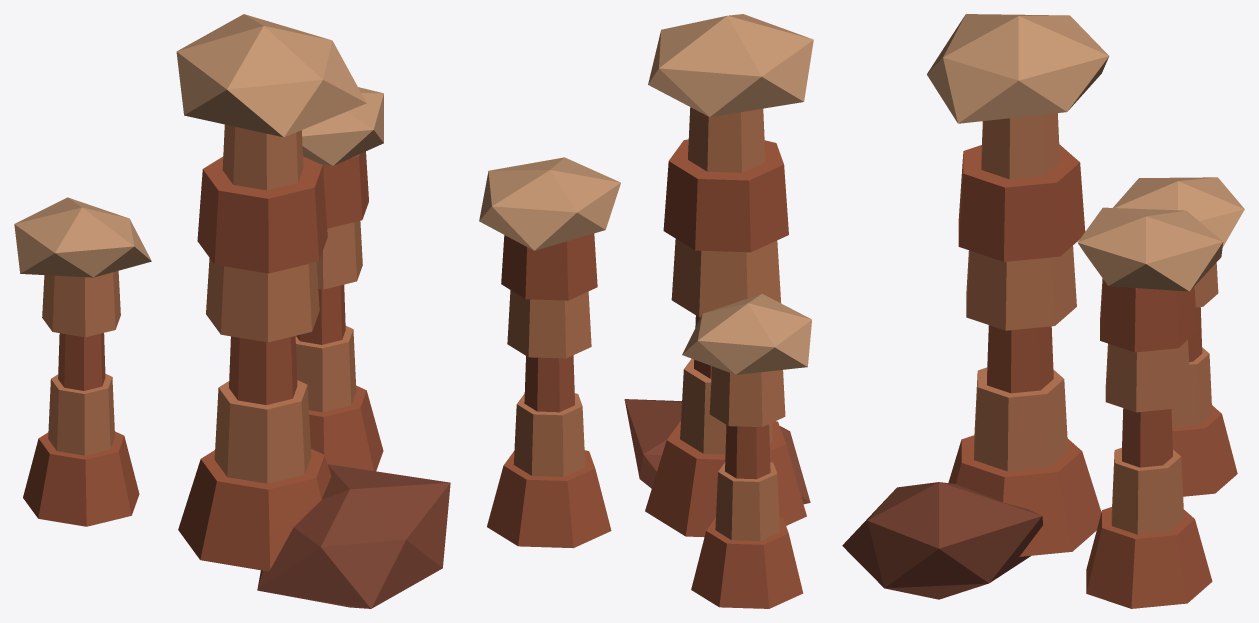
Rendered from hoodoos.glb.
3 views of the same model, side by side, from view 1: azimuth 30°, elevation 25°; view 2: azimuth 150°, elevation 25°; view 3: azimuth 270°, elevation 25° (orthographic). The views are drawn at different scales.
Visible parts, largest first — view 1: hoodoos; view 2: hoodoos; view 3: hoodoos.
Boxes of the visible parts, x1=… form: hoodoos: x1=14, y1=14, x2=450, y2=608; hoodoos: x1=479, y1=14, x2=813, y2=608; hoodoos: x1=842, y1=14, x2=1244, y2=608.
Size of the model in its own units: 7.53 by 11.66 by 7.59.
